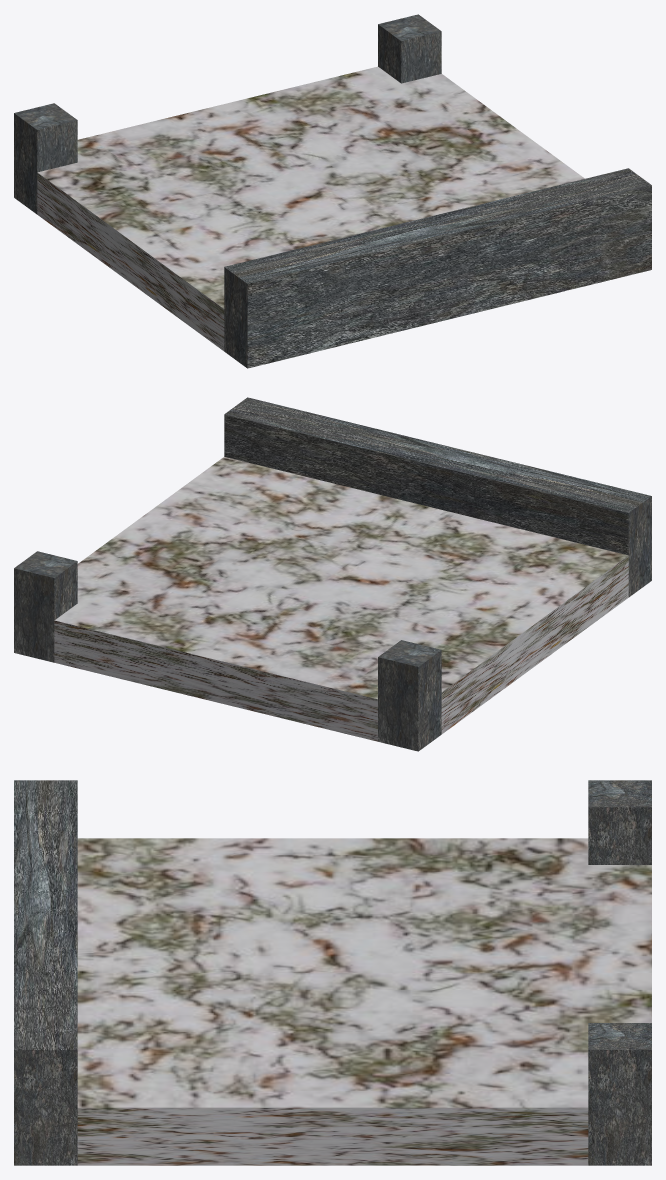
File: Three Way.glb
3 renders of one model, top to bottom at view 1: azimuth 30°, elevation 25°; view 2: azimuth 150°, elevation 25°; view 3: azimuth 270°, elevation 25°, orthographic. The views are drawn at different scales.
Parts seen in each view (by area): view 1: Three Way, Cube.013, Cube.014, Cube.015; view 2: Three Way, Cube.013, Cube.014, Cube.015; view 3: Three Way, Cube.013, Cube.015, Cube.014.
Part boxes in pixels (left/top/right/bottom): Three Way: left=37, top=66, right=584, bottom=351; Cube.013: left=224, top=168, right=651, bottom=368; Cube.014: left=14, top=103, right=77, bottom=214; Cube.015: left=378, top=14, right=441, bottom=83; Three Way: left=54, top=457, right=628, bottom=741; Cube.013: left=224, top=397, right=651, bottom=597; Cube.014: left=378, top=640, right=441, bottom=751; Cube.015: left=14, top=551, right=77, bottom=662; Three Way: left=77, top=838, right=651, bottom=1165; Cube.013: left=14, top=780, right=77, bottom=1165; Cube.015: left=588, top=1023, right=651, bottom=1165; Cube.014: left=588, top=780, right=651, bottom=864.
Bounding box in the file's own units: 1 × 0.2 × 1.
Materials: 2 (2 with a texture image).
